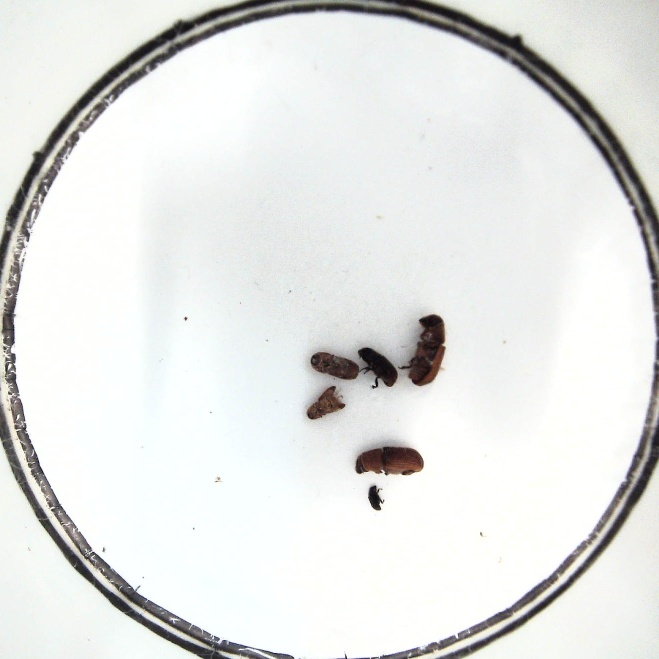acuminatus: (306, 383, 347, 419)
armandi: (356, 345, 400, 390)
coleoptera: (366, 482, 387, 516)
leconte: (403, 311, 449, 386), (352, 446, 425, 476)
linnaeus: (310, 348, 361, 382)
